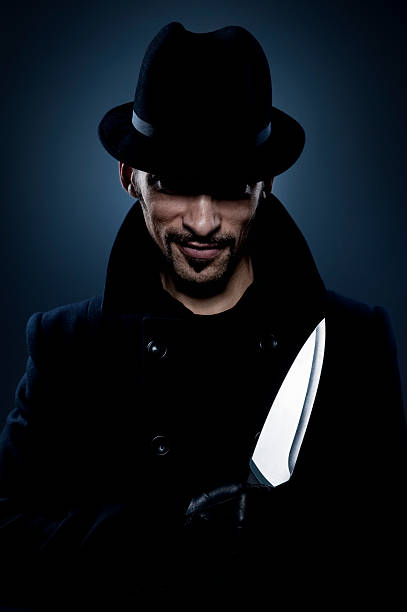knife: (245, 315, 328, 490)
